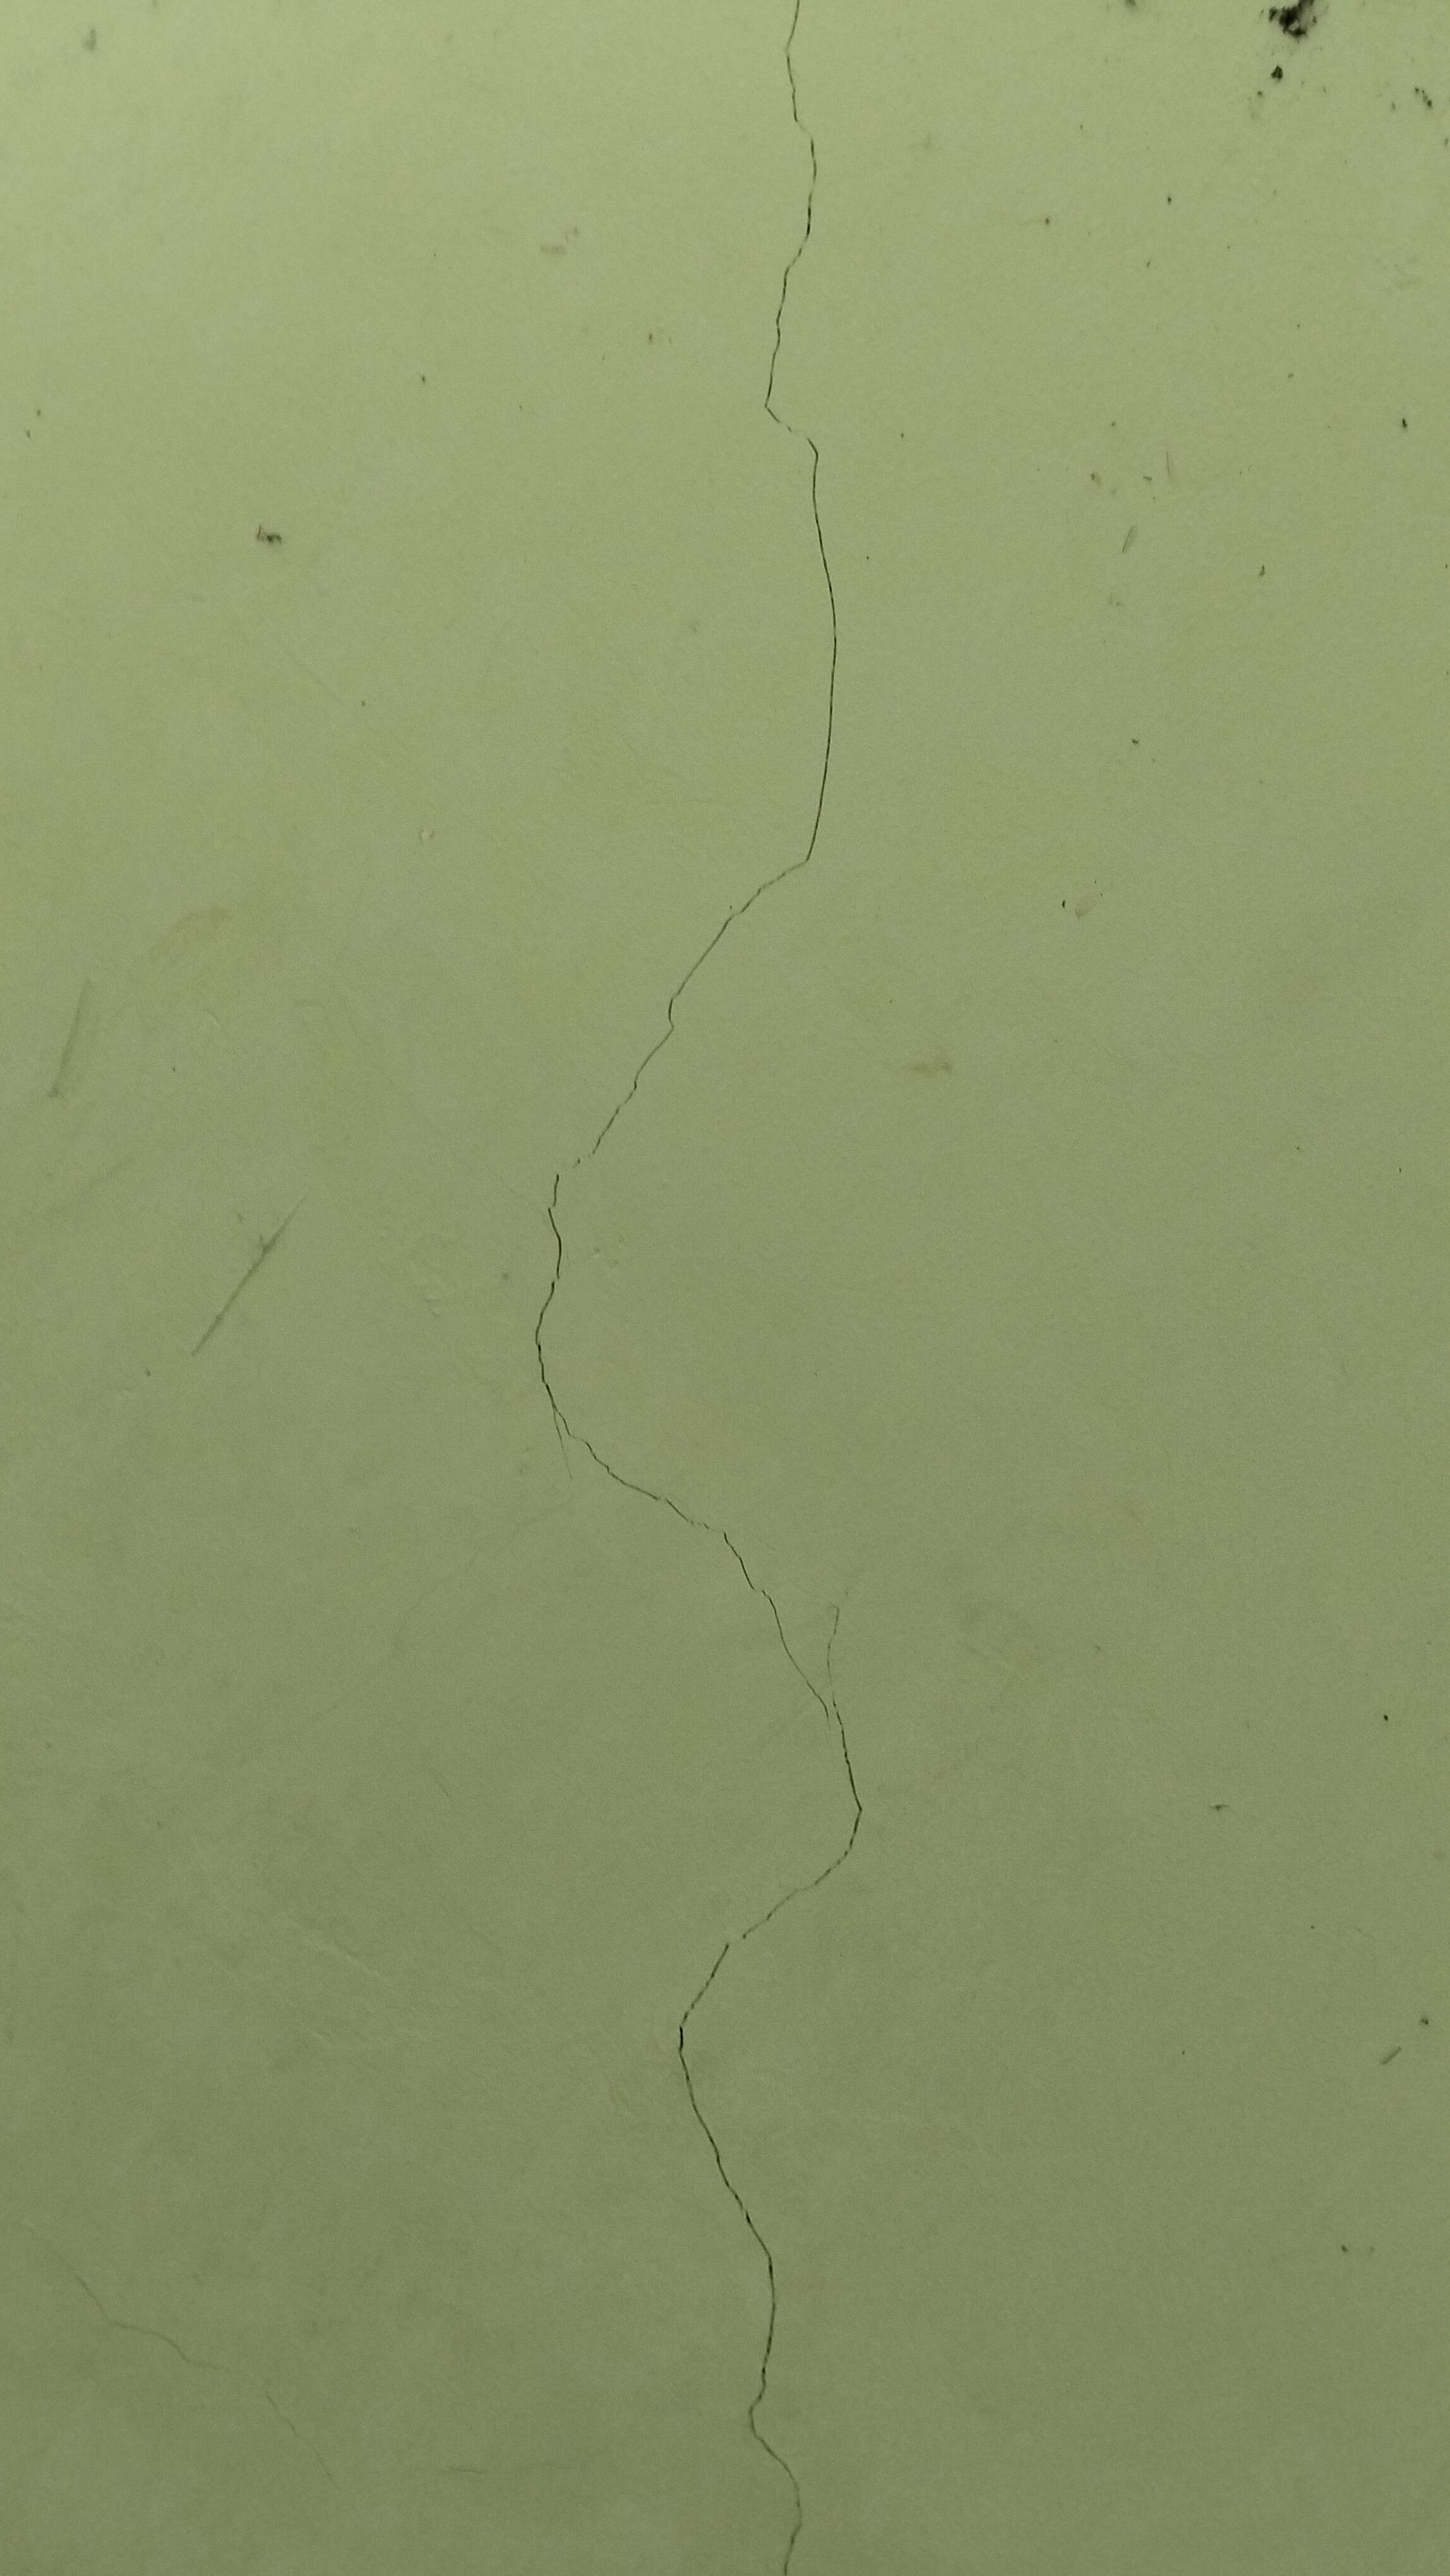Crack: (643, 1484, 889, 2576), (501, 847, 860, 1511), (698, 0, 919, 867)
